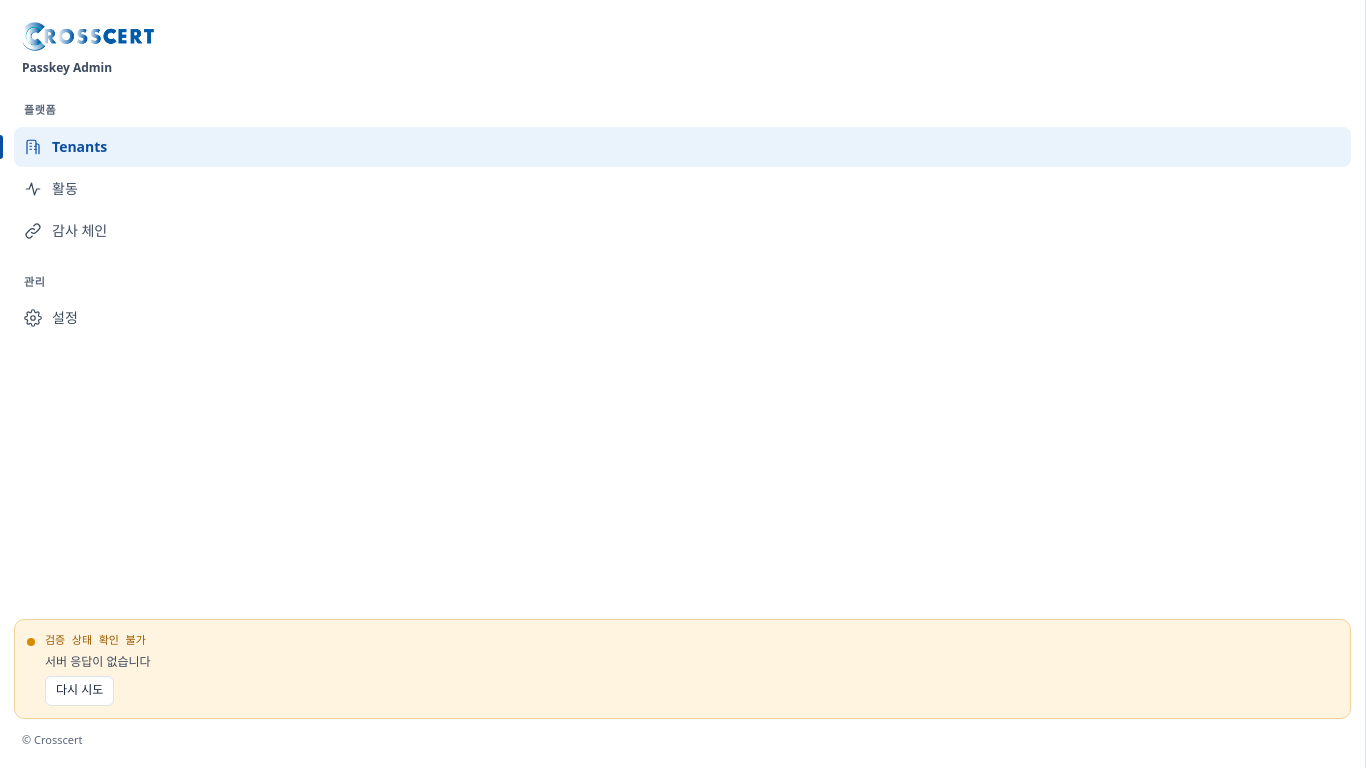
it: Sidebar V3 › 조회가 실패하면 "검증 상태 확인 불가" + 다시 시도, 다시 시도가 성공하면 정상
Expected: the text "검증 상태 확인 불가" is shown, [45,632,151,649]
Expected: the text "서버 응답이 없습니다" is shown, [45,653,151,672]
Click the button "다시 시도": (80, 691) [45,676,114,706]
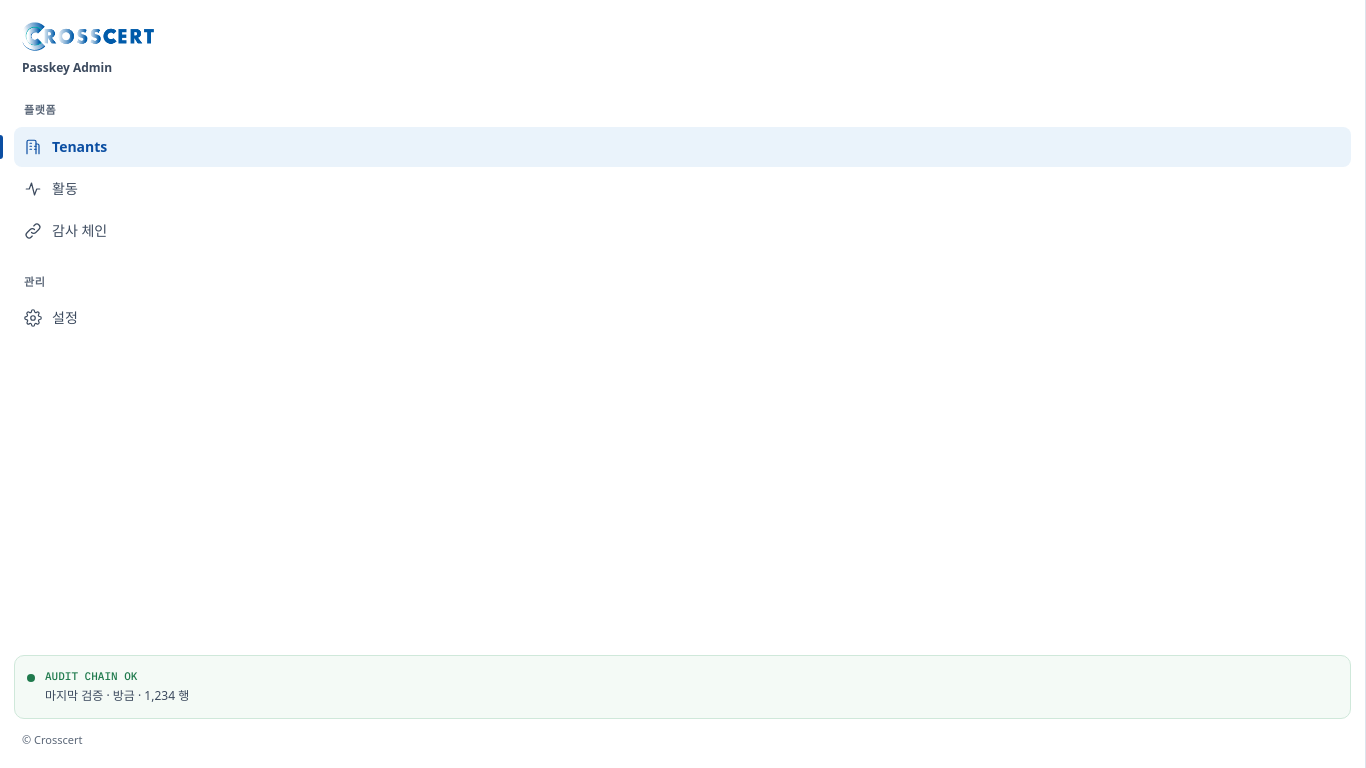
Expected: the text "AUDIT CHAIN OK" is shown, [45,669,137,683]
